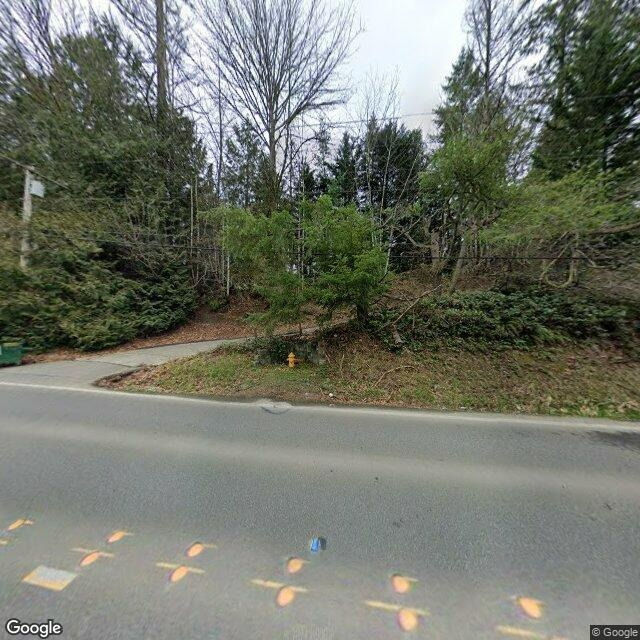hydrant: (286, 348, 295, 369)
